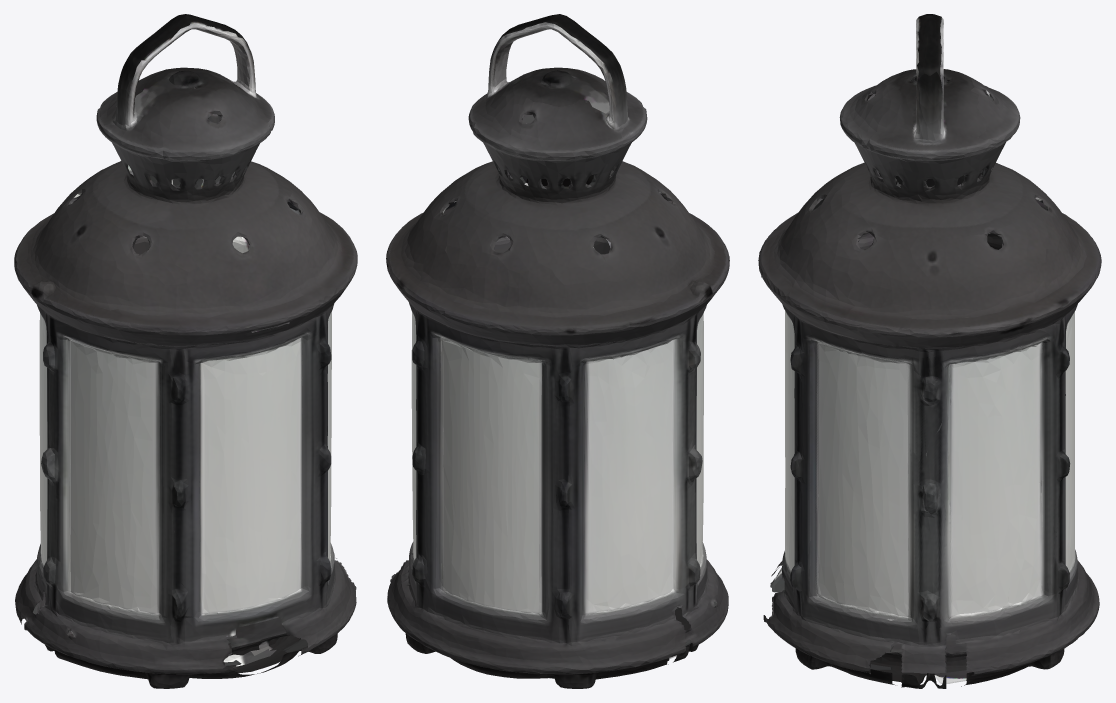
The model's file is mdl_lantern_001.glb.
3 views of the same model, side by side, from view 1: azimuth 30°, elevation 25°; view 2: azimuth 150°, elevation 25°; view 3: azimuth 270°, elevation 25° (orthographic).
Visible parts, largest first — view 1: tmpvteh33_e.ply; view 2: tmpvteh33_e.ply; view 3: tmpvteh33_e.ply.
Part boxes in pixels (left/top/right/bottom): tmpvteh33_e.ply: left=14, top=14, right=357, bottom=688; tmpvteh33_e.ply: left=386, top=14, right=729, bottom=688; tmpvteh33_e.ply: left=758, top=14, right=1101, bottom=688.
Size of the model in its own units: 0.515 by 0.9907 by 0.5042.
1 material, 1 textured.
